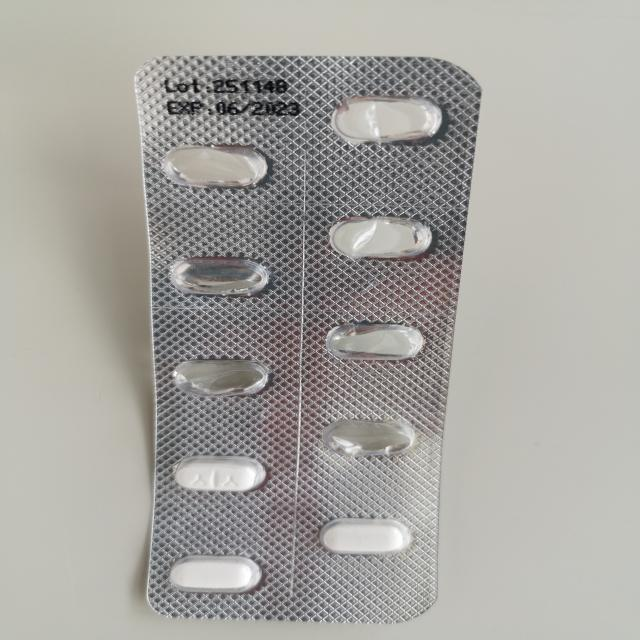Empty: (326, 94, 447, 148), (322, 211, 440, 264), (156, 140, 275, 192), (162, 252, 275, 300), (318, 317, 430, 365), (167, 354, 274, 400), (316, 414, 422, 458)
Pill: (314, 514, 418, 561), (162, 551, 269, 596), (168, 453, 271, 495)
